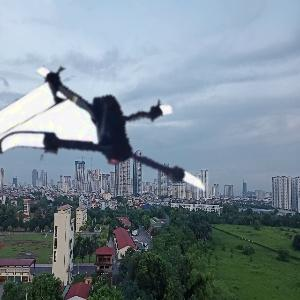drone: (11, 41, 213, 243)
